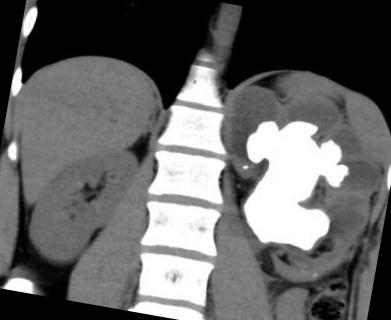Tas_Var: (226, 107, 363, 260), (237, 162, 251, 174), (310, 270, 319, 280)
